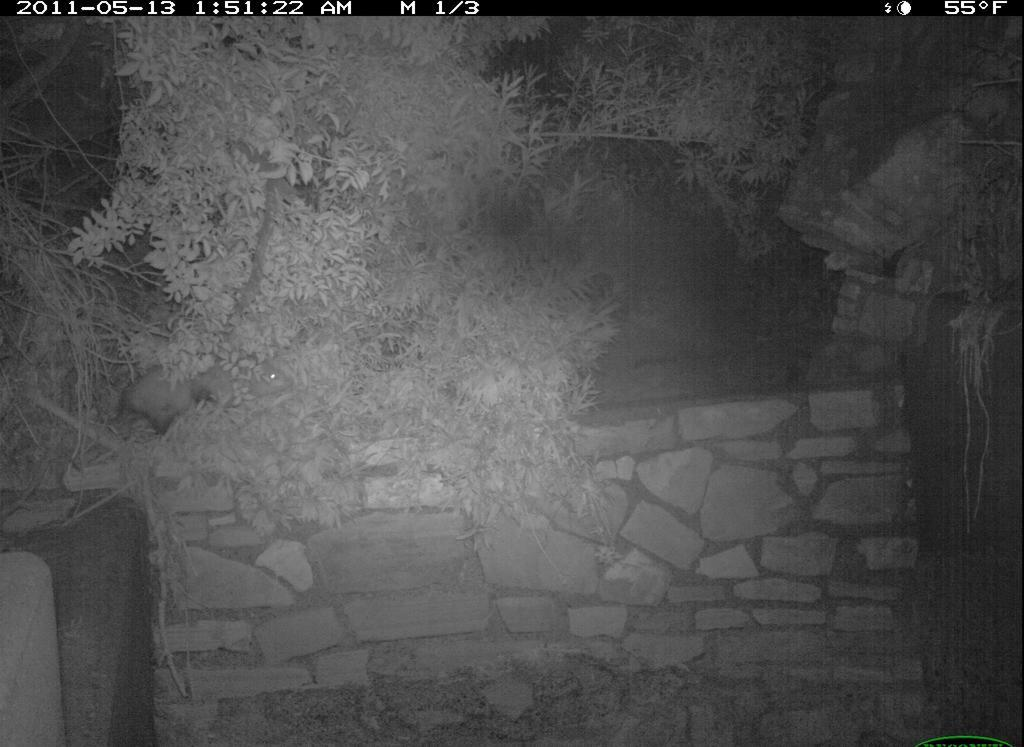opossum: (107, 351, 297, 445)
